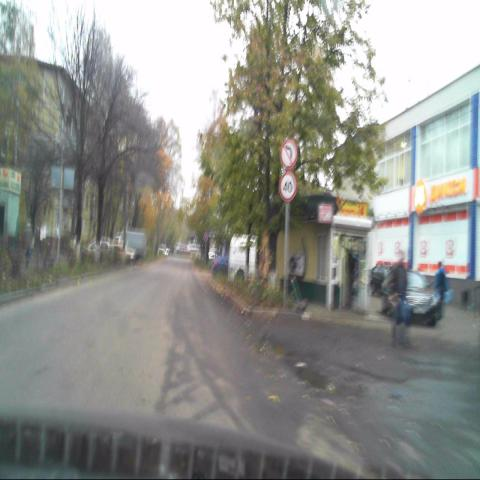3_18_2: (280, 140, 296, 170)
3_24: (278, 171, 297, 201)
